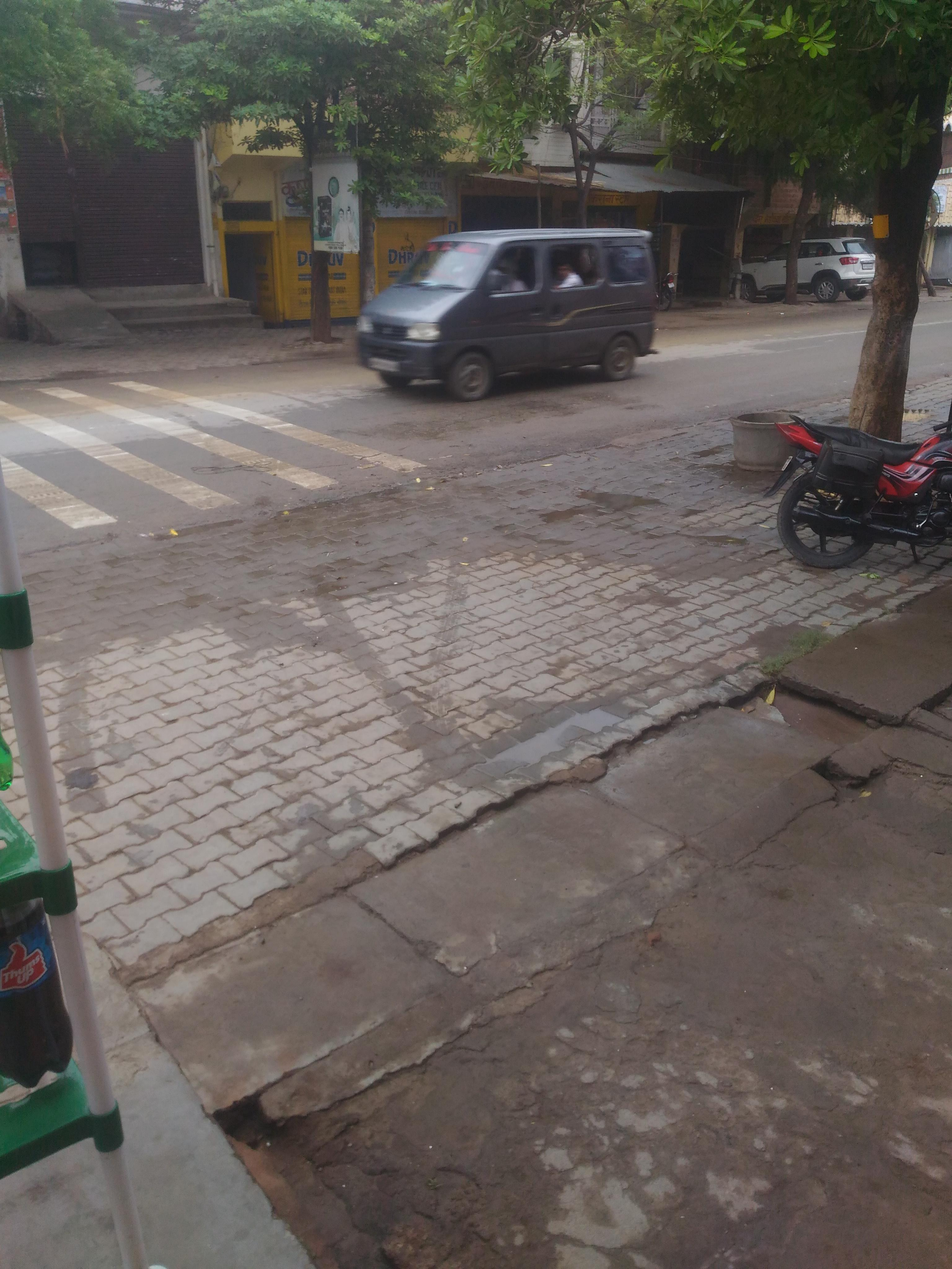non-ambulance: (308, 129, 713, 459)
